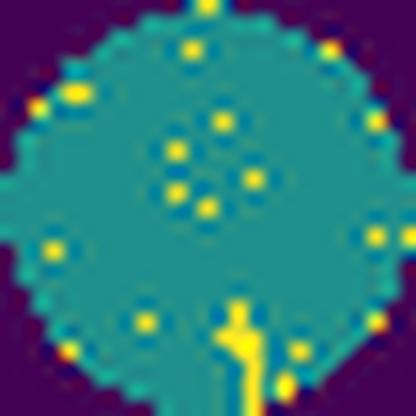Scratch: (210, 297, 270, 416)
